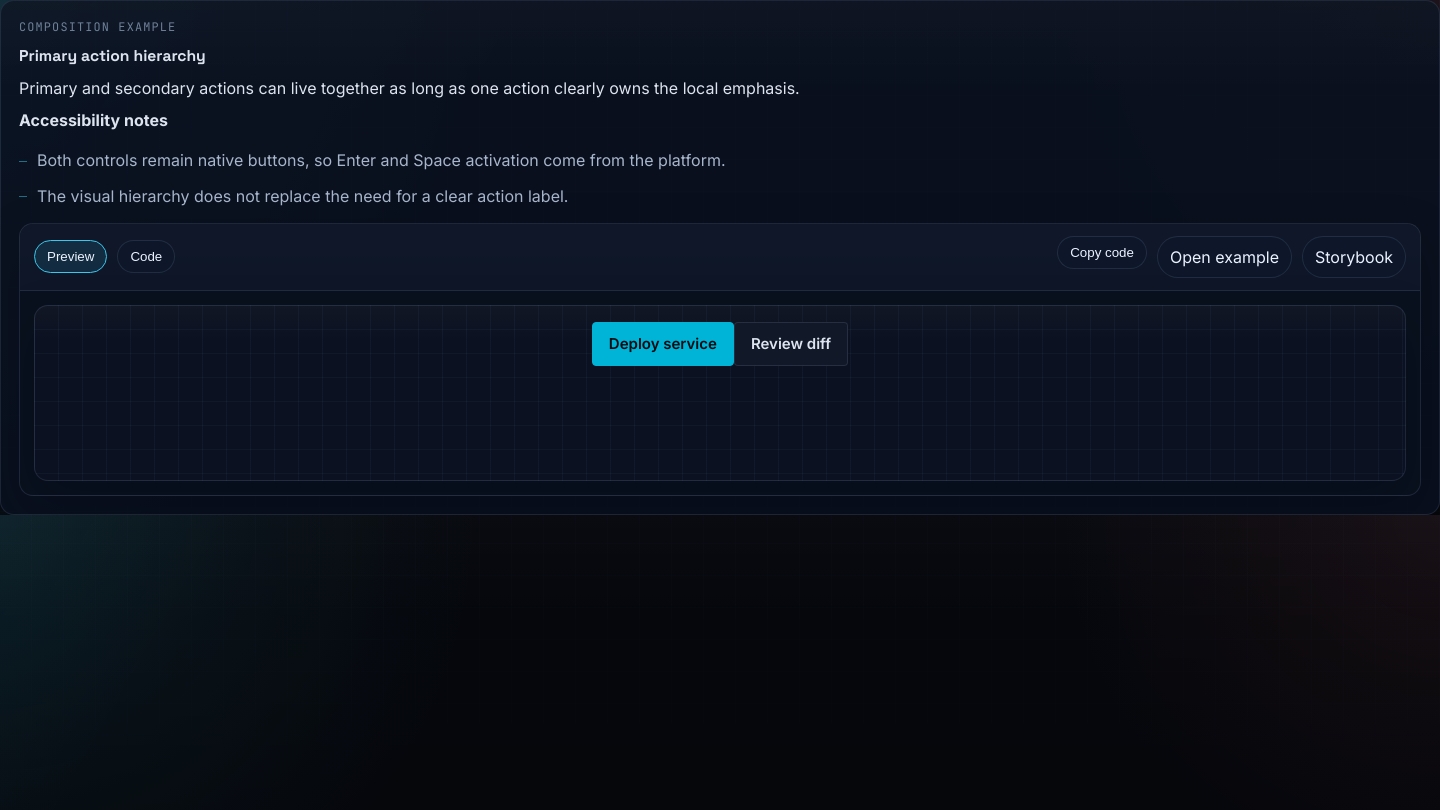
Scenario: ComponentExampleSection › copies example code successfully
Click the button "Copy code" at point(1102, 252), box [1057,236,1147,269]
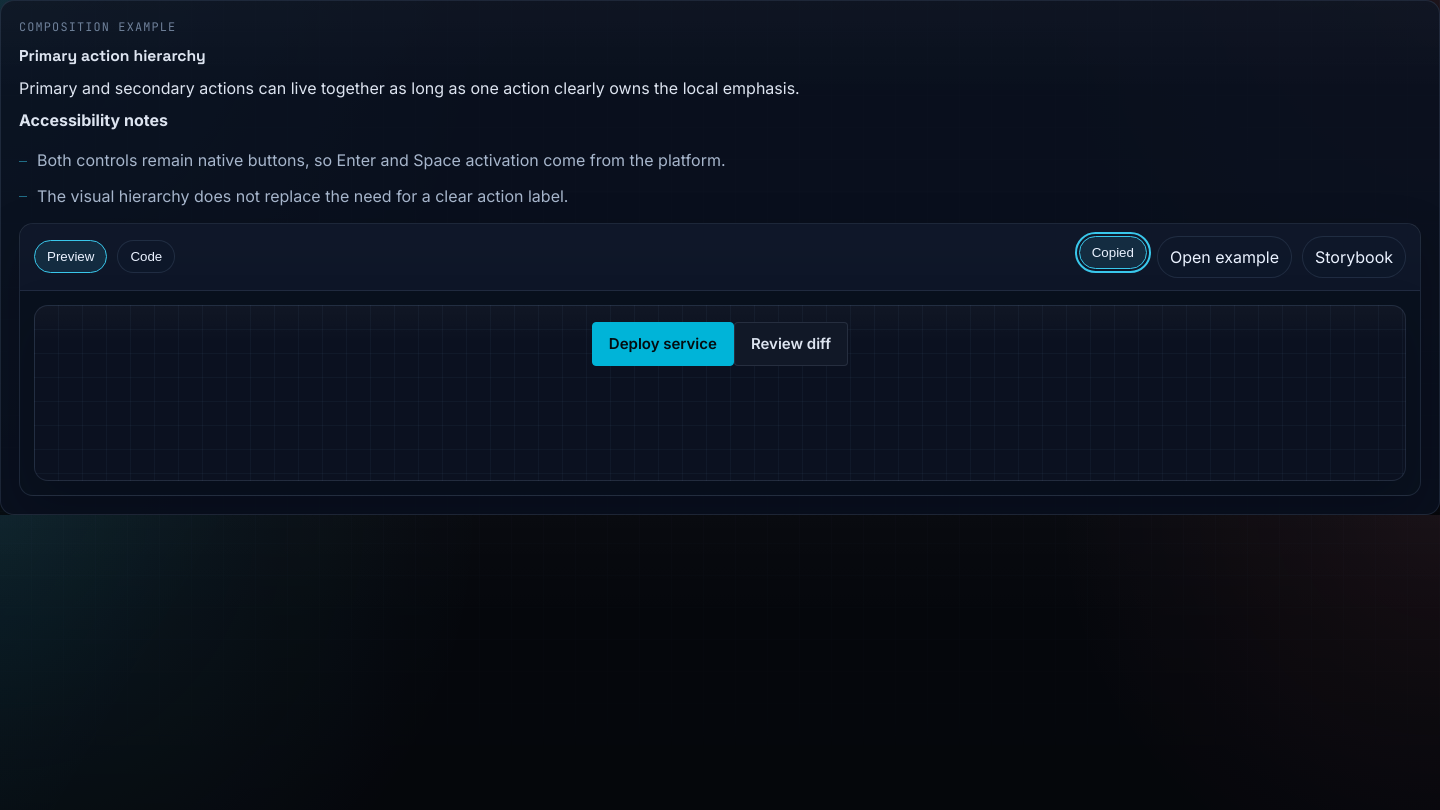
Expected: the button "Copied" is shown, [1079,236,1147,269]
